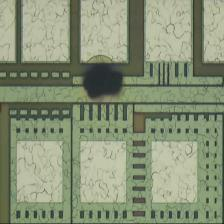PARTICLE: (81, 55, 128, 106)
